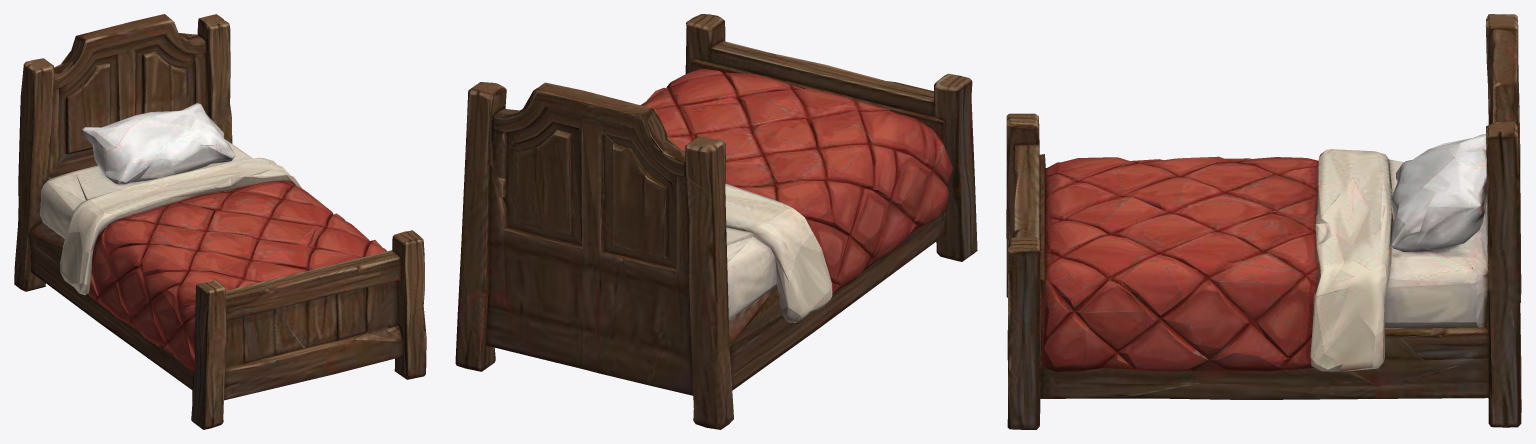
The model's file is inn_bed_3d.glb.
The picture shows the model from 3 angles, left to right: view 1: azimuth 30°, elevation 25°; view 2: azimuth 150°, elevation 25°; view 3: azimuth 270°, elevation 25°; orthographic projection. The views are drawn at different scales.
Visible parts, largest first — view 1: Mesh_0; view 2: Mesh_0; view 3: Mesh_0.
Part boxes in pixels (x1,y1,x2,y2): Mesh_0: [14, 14, 426, 429]; Mesh_0: [455, 14, 977, 429]; Mesh_0: [1006, 14, 1521, 429].
Bounding box in the file's own units: 0.9078 × 0.875 × 1.34.
1 material, 1 textured.
